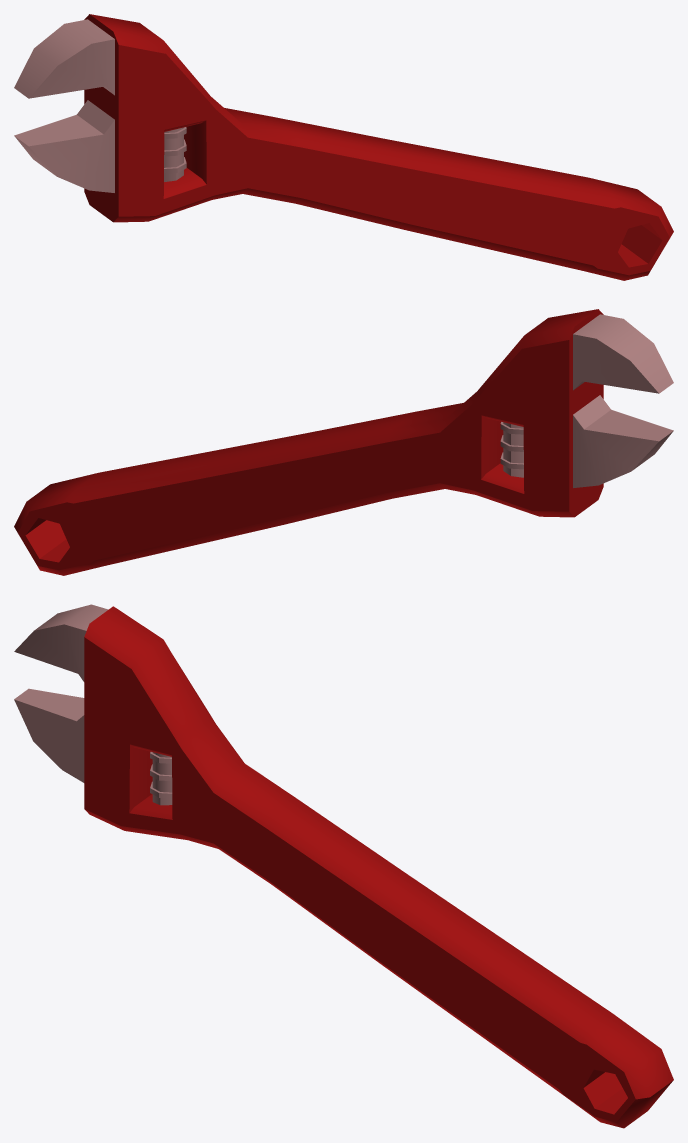
Rendered from chave de fenda.FBX.
3 renders of one model, top to bottom at view 1: azimuth 30°, elevation 25°; view 2: azimuth 150°, elevation 25°; view 3: azimuth 330°, elevation 25°, orthographic.
Visible parts, largest first — view 1: Box001; view 2: Box001; view 3: Box001.
Part boxes in pixels (<box>): Box001: <box>14,14,673,280</box>; Box001: <box>14,309,673,575</box>; Box001: <box>14,604,673,1128</box>.
Bounding box in the file's own units: 32.5 × 18.14 × 3.02.
